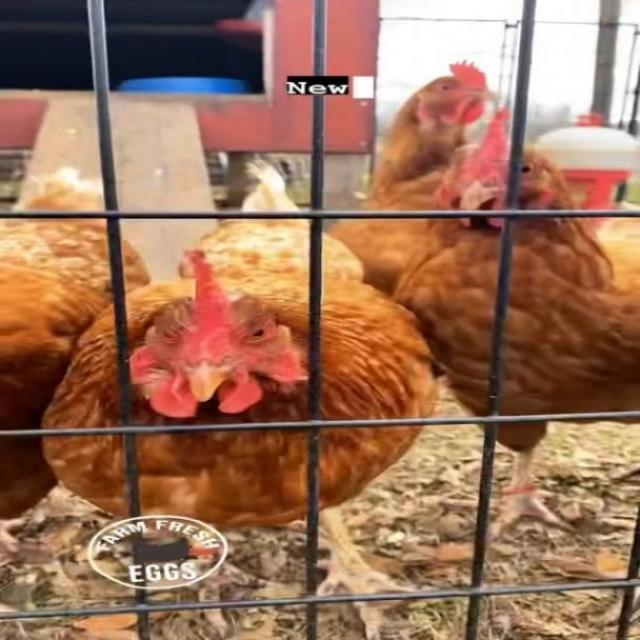Chicken: (42, 164, 432, 619), (393, 103, 640, 537), (0, 166, 152, 559), (331, 62, 498, 290)
